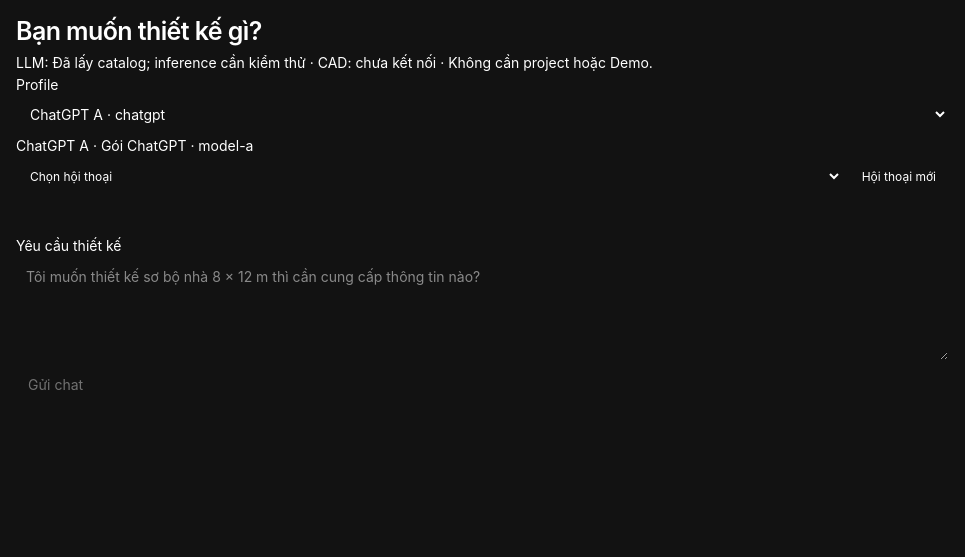
Scenario: shows a completed answer once after messages refresh
Replace the text in the text box labelled "Yêu cầu thiết kế" with "Nhà cần gì?" at (482, 308), box [16,256,948,360]
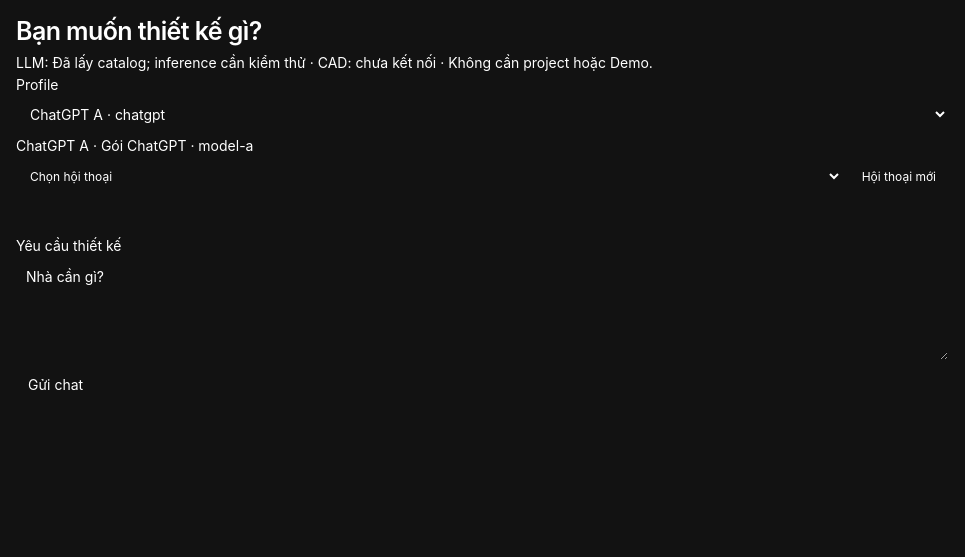
Click the button "Gửi chat" at (56, 385), box [16,365,95,404]
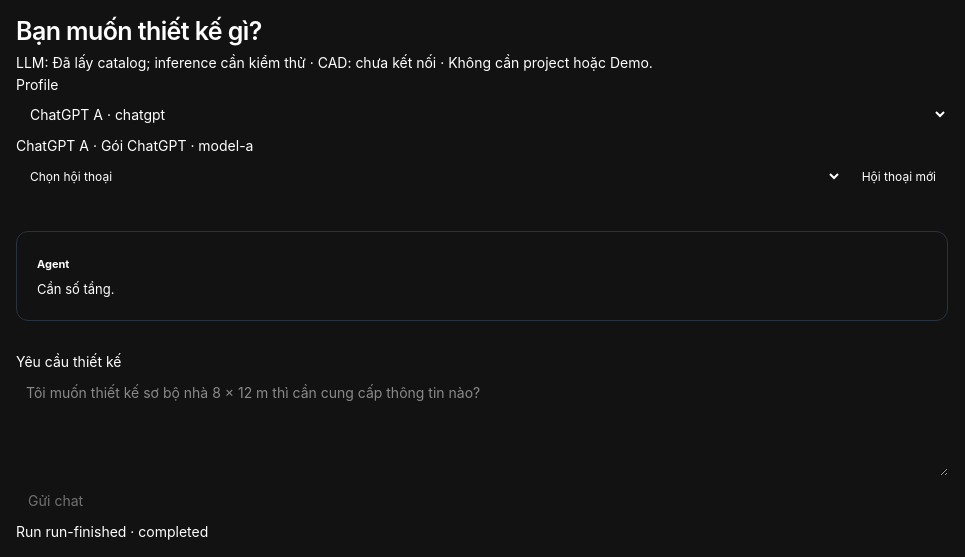
Check: the text "Cần số tầng." is shown once, box [37,281,114,297]
